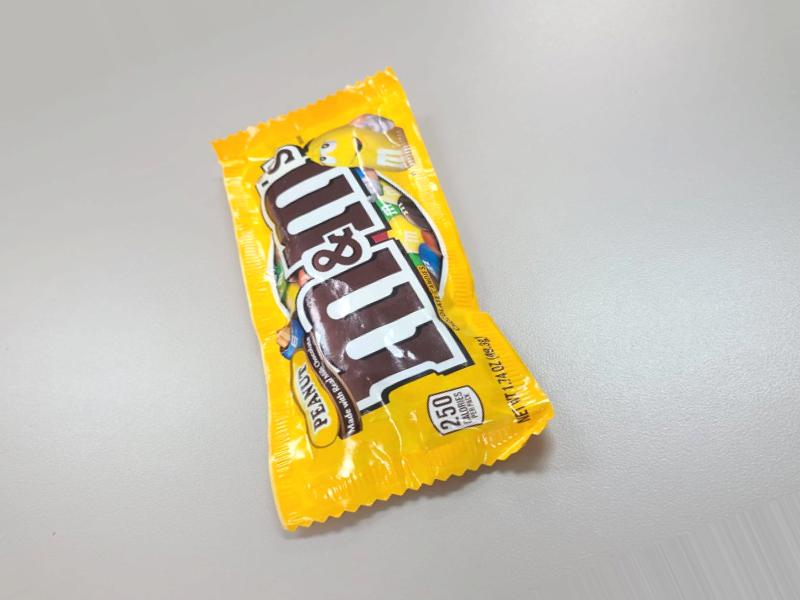m&m: (209, 123, 563, 575)
